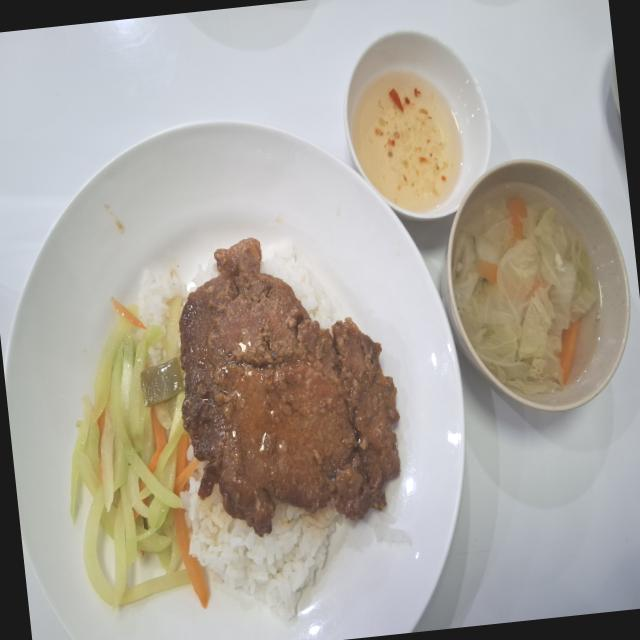canh cai: (452, 196, 596, 394)
com: (183, 480, 341, 620), (261, 240, 339, 328), (137, 268, 187, 327)
nuoc mam: (354, 73, 461, 213)
rau: (70, 300, 187, 606)
suon mieng: (180, 238, 400, 535)
